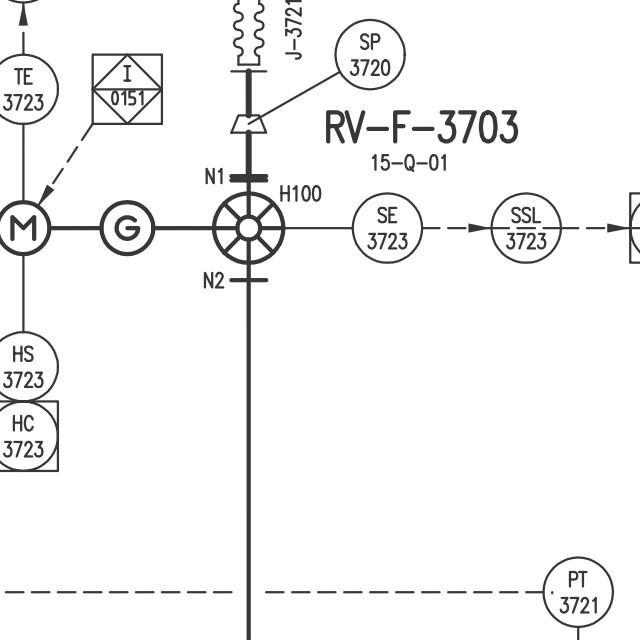RV1: (209, 187, 286, 264)
SP: (227, 109, 270, 137)
